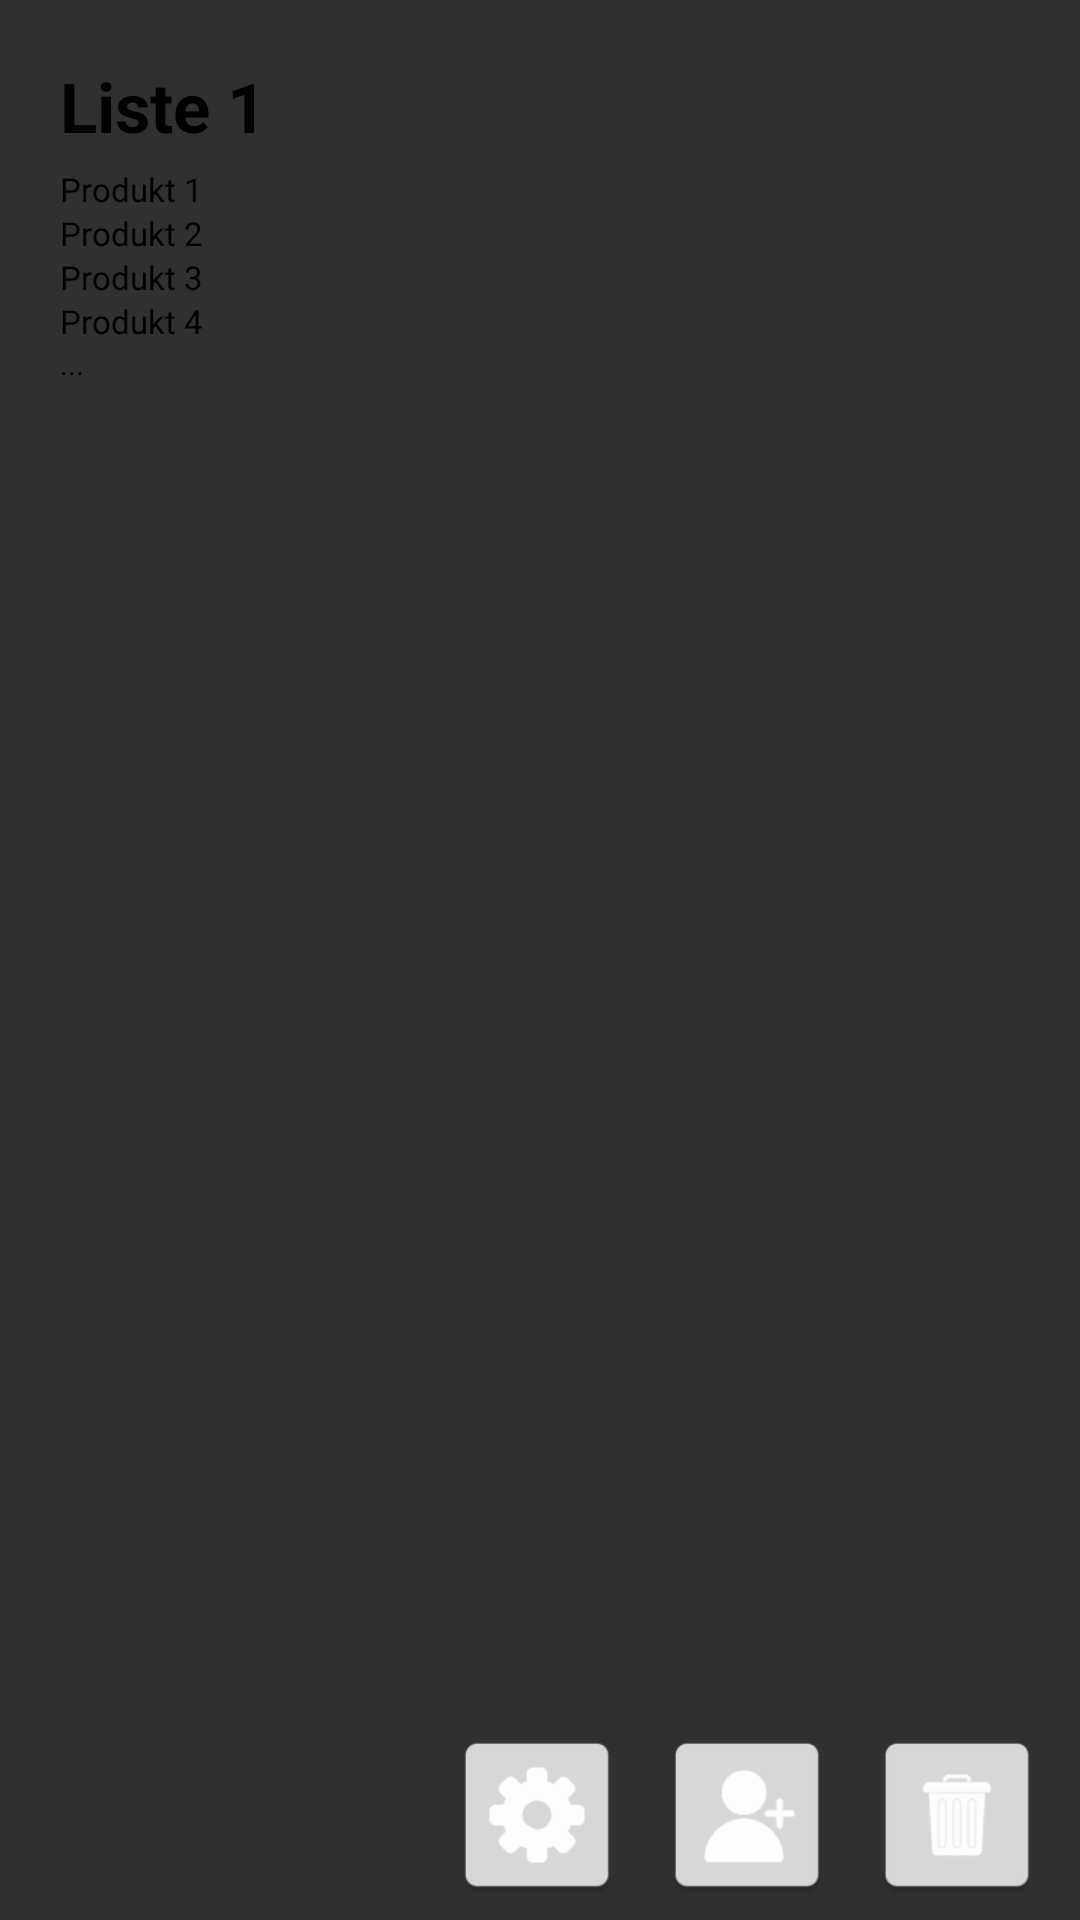

Icon click points for this 1080*1920 phone screenshot, format point (x, y):
add user: point (747, 1815)
settings: point (537, 1815)
trashcan: point (957, 1815)
